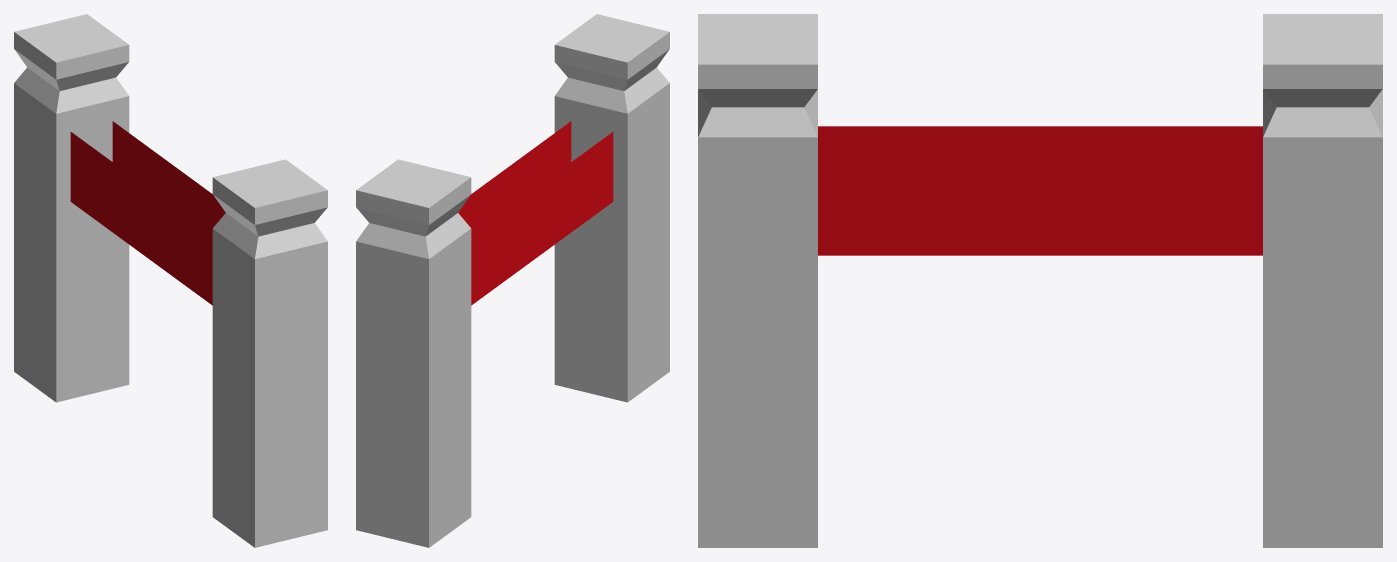
Rendered from TSA Barricade.fbx.
3 views of the same model, side by side, from view 1: azimuth 30°, elevation 25°; view 2: azimuth 150°, elevation 25°; view 3: azimuth 270°, elevation 25° (orthographic). The views are drawn at different scales.
Visible parts, largest first — view 1: Barricade Pillar 1, Barricade Pillar 2, Barricade Shield 2, Barricade Shield 1; view 2: Barricade Pillar 2, Barricade Pillar 1, Barricade Shield 2, Barricade Shield 1; view 3: Barricade Pillar 1, Barricade Pillar 2, Barricade Shield 1, Barricade Shield 2.
Boxes of the visible parts, <box> form: Barricade Pillar 1: <box>212,159,327,547</box>; Barricade Pillar 2: <box>14,14,129,402</box>; Barricade Shield 2: <box>70,132,212,305</box>; Barricade Shield 1: <box>112,121,225,234</box>; Barricade Pillar 2: <box>356,159,471,547</box>; Barricade Pillar 1: <box>554,14,669,402</box>; Barricade Shield 2: <box>471,132,613,305</box>; Barricade Shield 1: <box>458,121,571,234</box>; Barricade Pillar 1: <box>698,14,817,547</box>; Barricade Pillar 2: <box>1263,14,1382,547</box>; Barricade Shield 1: <box>818,155,1262,255</box>; Barricade Shield 2: <box>818,126,1262,155</box>.
Bounding box in the file's own units: 217 × 967 × 1242.
